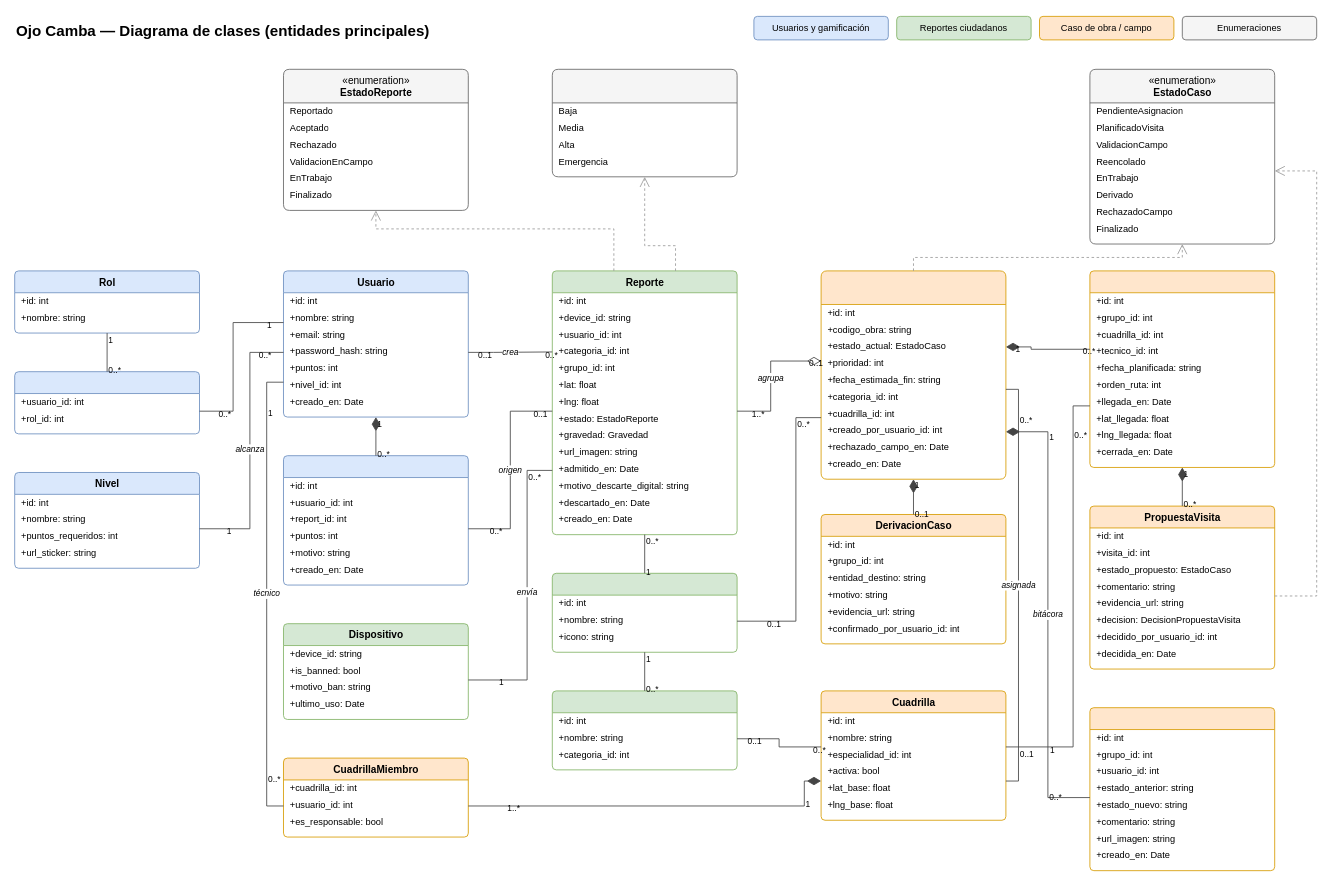
This 1341x885 diagram has some shape labels left out. Here are the shapes that lost their labels. From the top down, the box of each, then its label:
(551, 68, 737, 177): «enumeration» Gravedad
(820, 270, 1006, 479): «Caso de Obra» GrupoReporte
(1089, 270, 1275, 467): VisitaCaso
(14, 371, 200, 434): UsuarioRol
(283, 455, 468, 585): HistorialPuntos
(551, 572, 737, 652): Categoria
(551, 690, 737, 770): Especialidad
(1089, 707, 1275, 871): ActualizacionCaso
